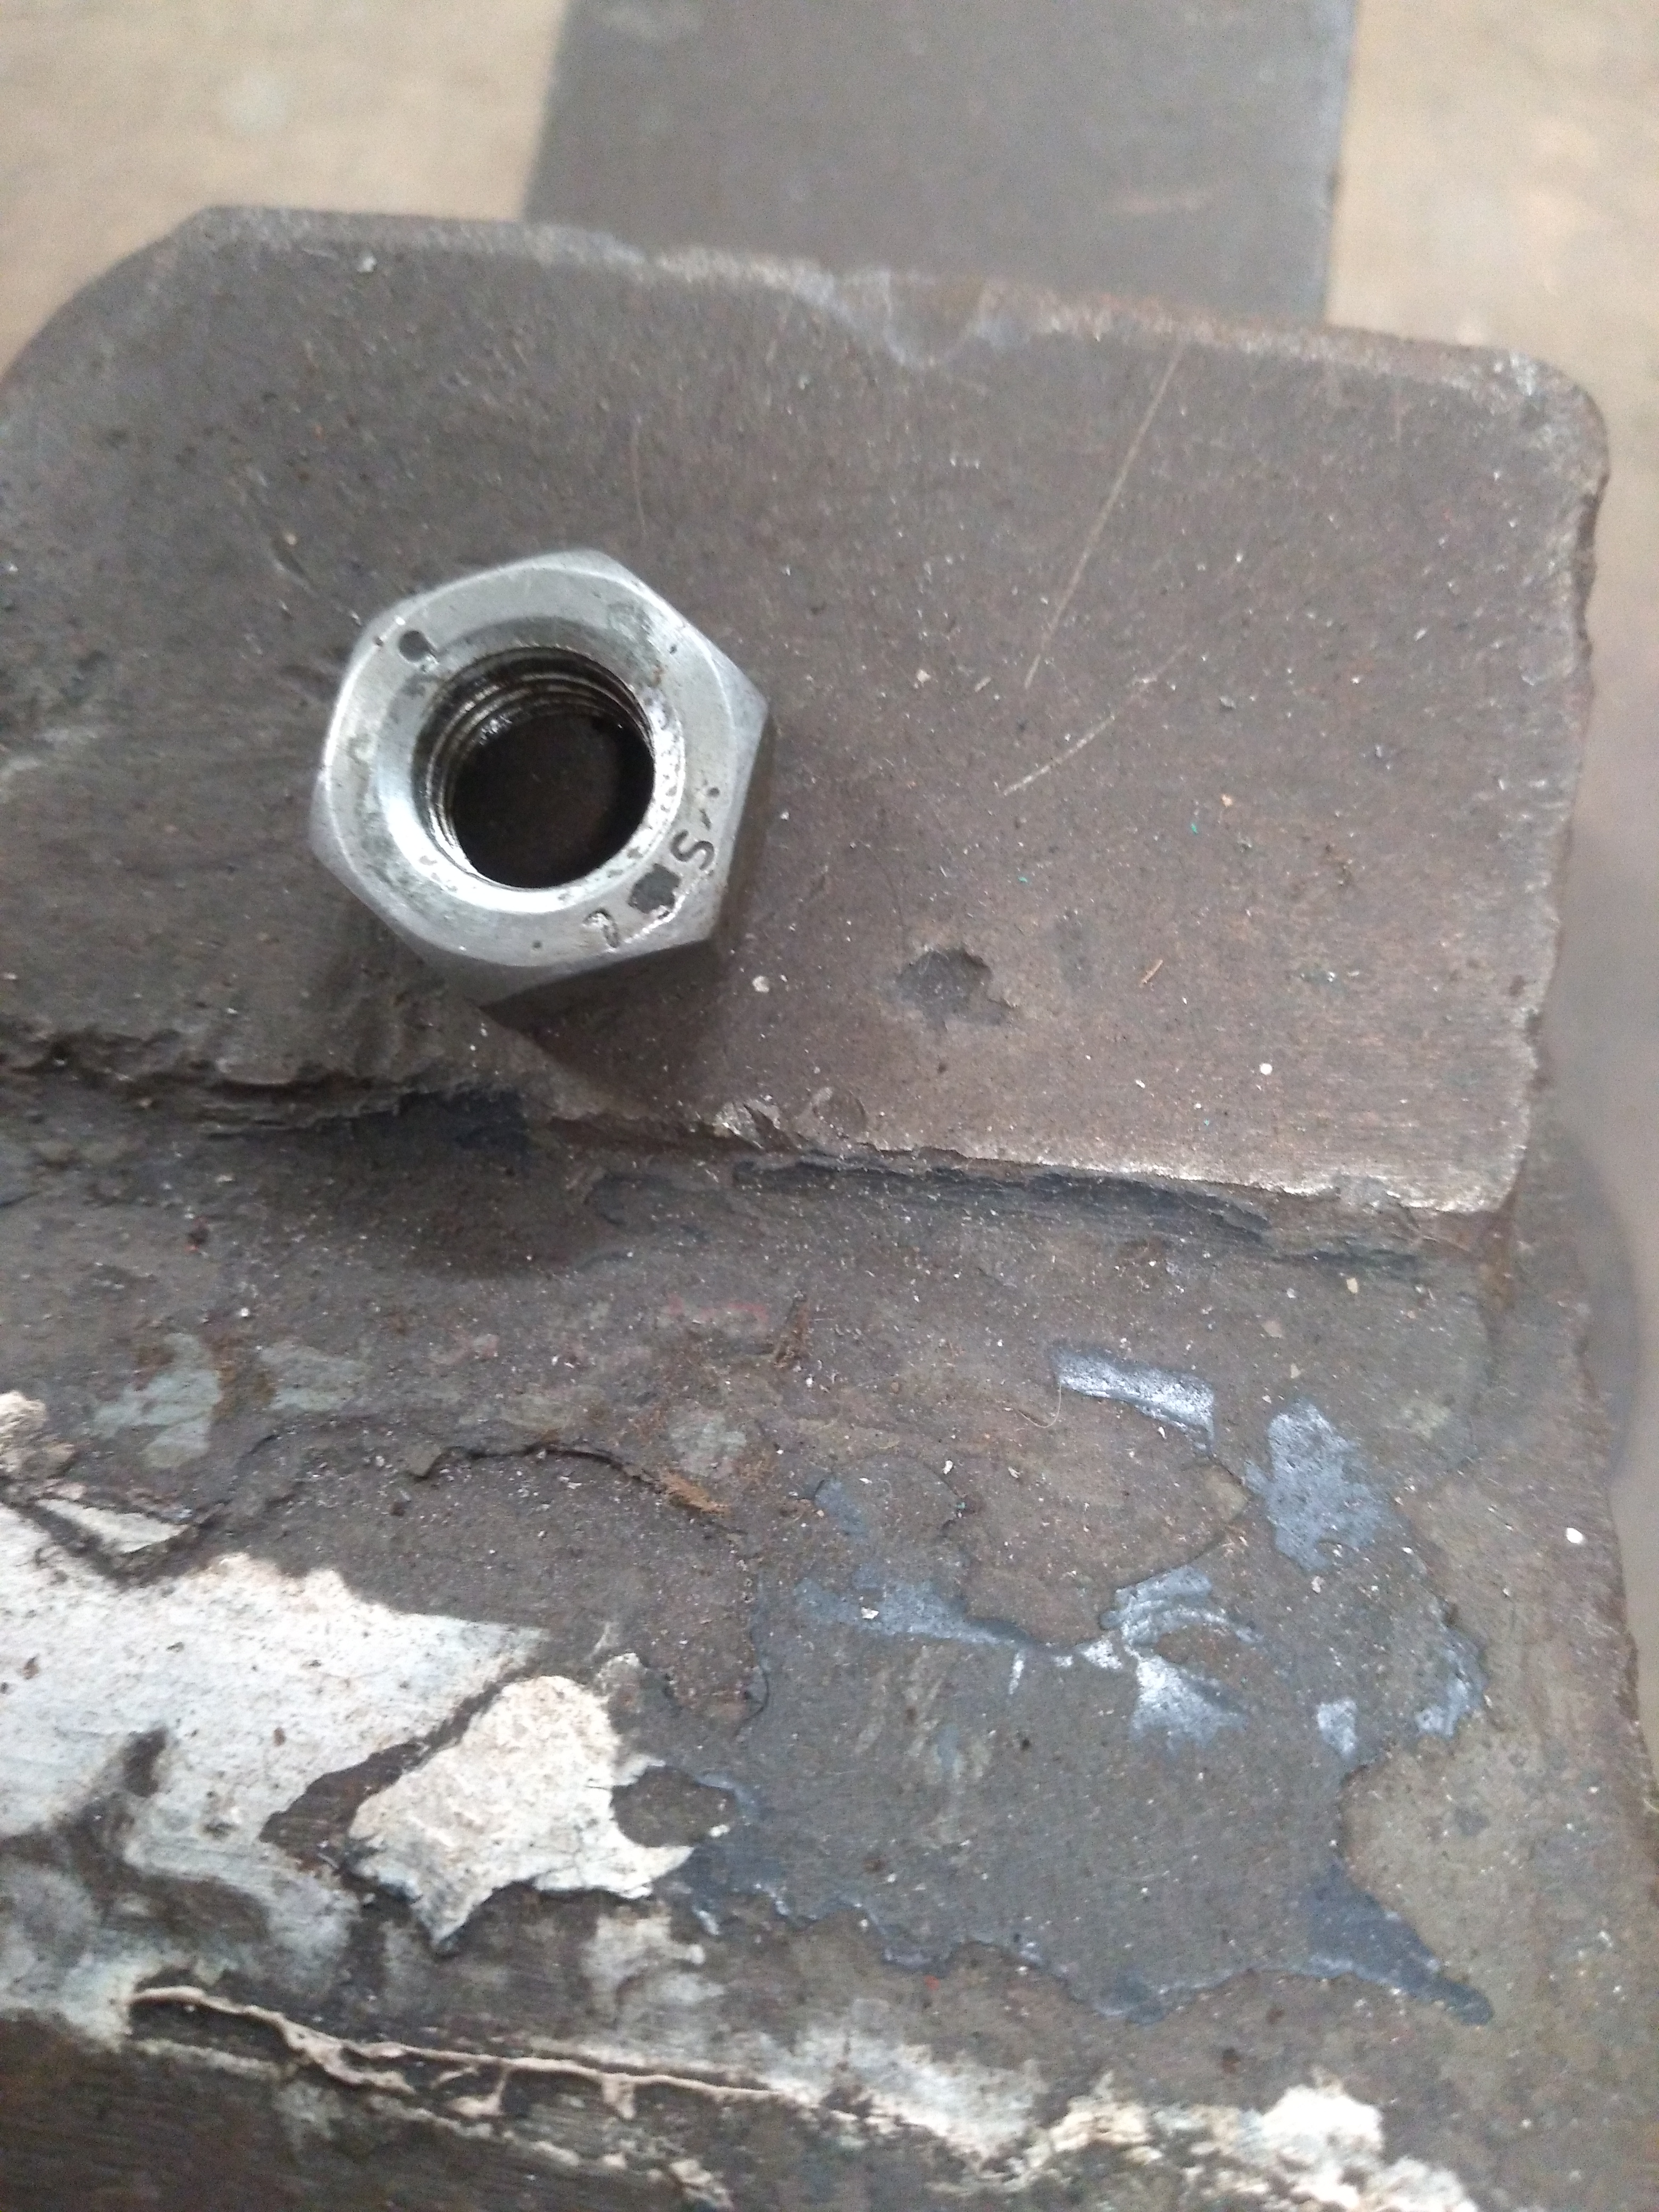Thread: (408, 625, 685, 900)
